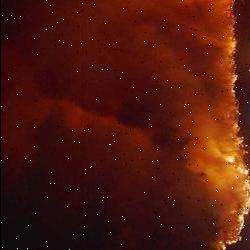fire: (211, 1, 250, 250)
